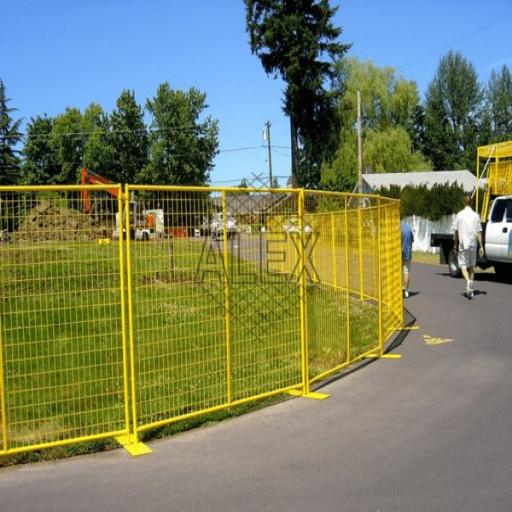bus_stop: (127, 181, 306, 460), (0, 186, 133, 460), (304, 180, 381, 407)
